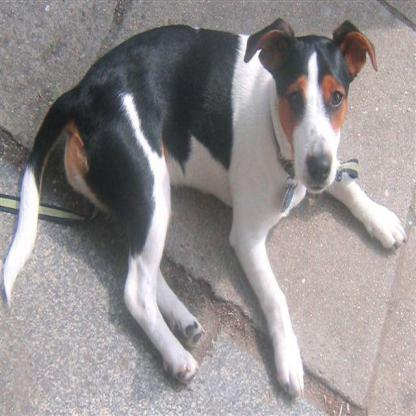Appenzeller: (0, 17, 406, 403)
